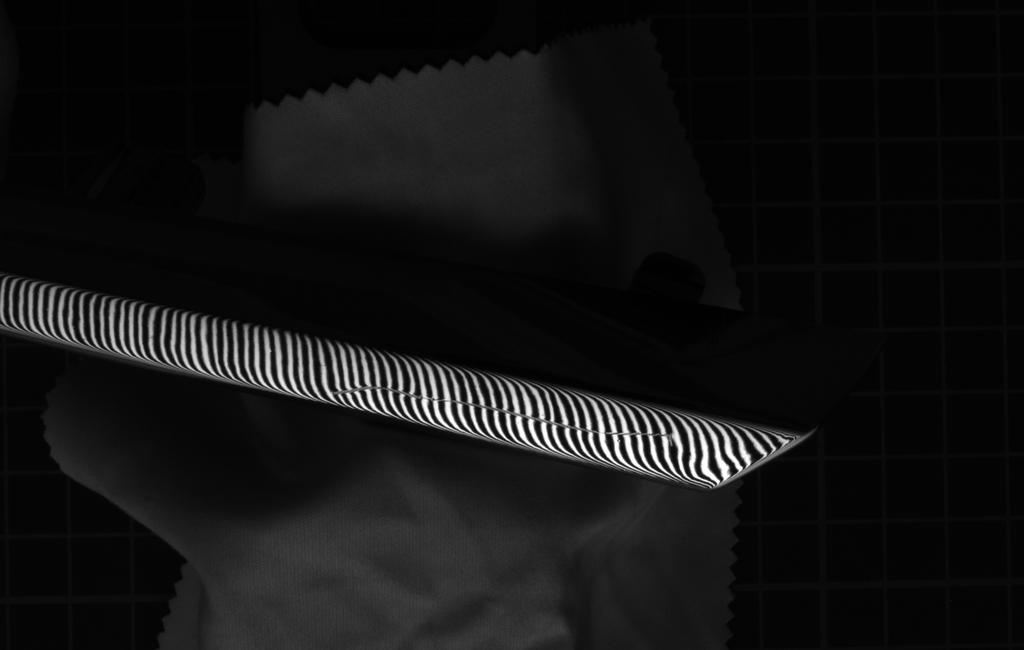Scratch: (328, 375, 677, 444)
